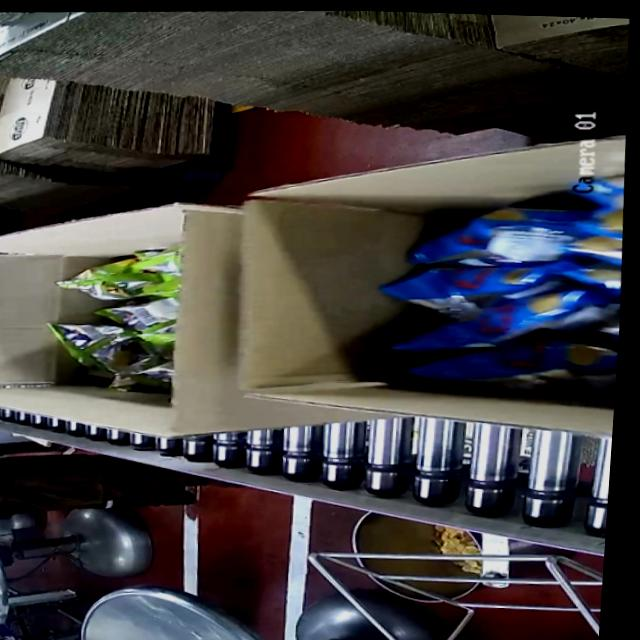PAPRIKA: (360, 176, 629, 399)
